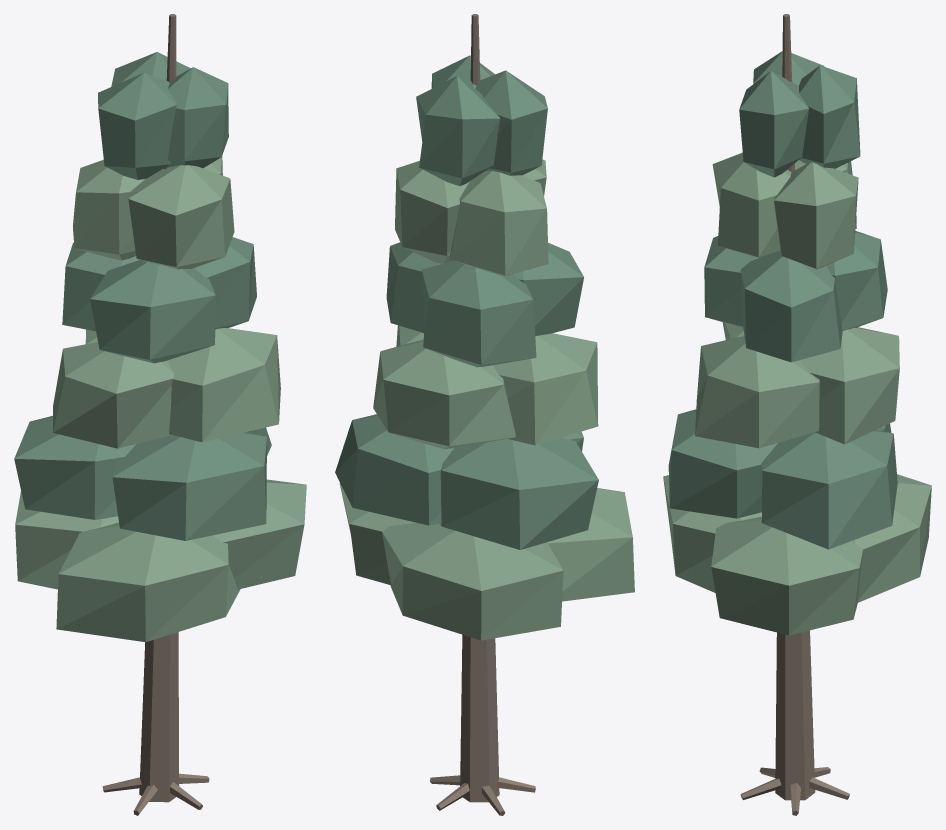
3 renders of one model, left to right at view 1: azimuth 30°, elevation 25°; view 2: azimuth 150°, elevation 25°; view 3: azimuth 270°, elevation 25°, orthographic.
Size of the model in its own units: 9.14 by 24.61 by 7.66.
